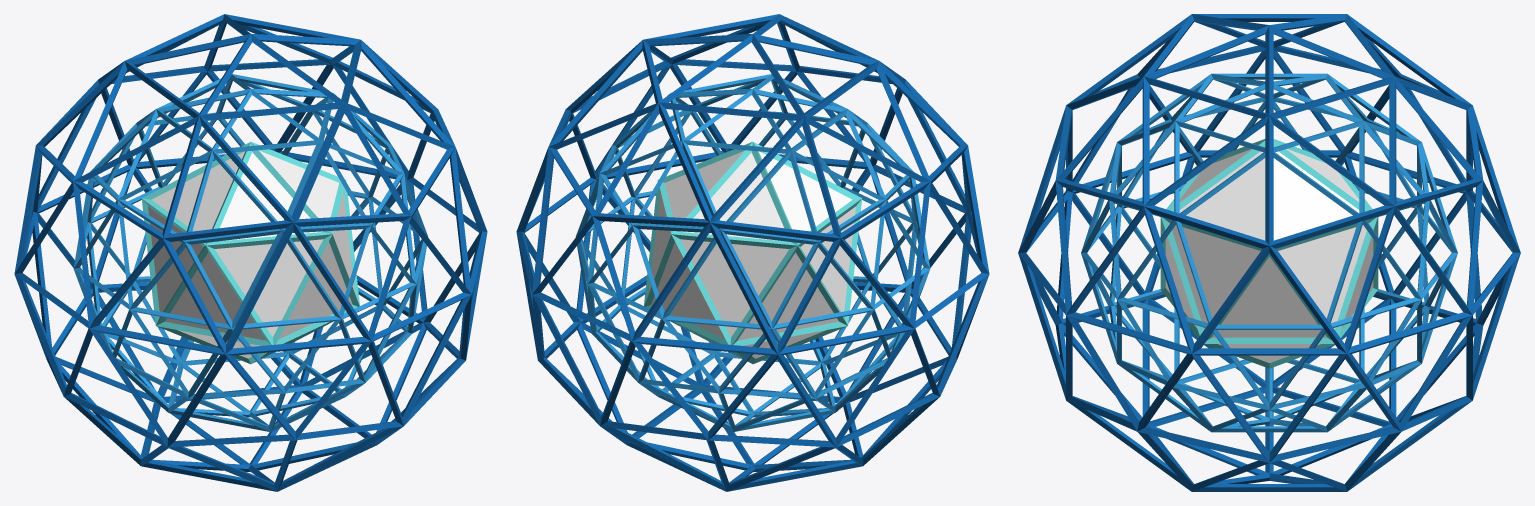
File: alientShip5.fbx
3 views of the same model, side by side, from view 1: azimuth 30°, elevation 25°; view 2: azimuth 150°, elevation 25°; view 3: azimuth 270°, elevation 25° (orthographic). The views are drawn at different scales.
Visible parts, largest first — view 1: AlienShip5Outer, AlienShip5Outer2, AlienShip5Inner; view 2: AlienShip5Outer, AlienShip5Outer2, AlienShip5Inner; view 3: AlienShip5Outer, AlienShip5Outer2, AlienShip5Inner.
Boxes of the visible parts, bbox=[...] form: AlienShip5Outer: bbox=[14, 14, 487, 491]; AlienShip5Outer2: bbox=[73, 74, 428, 432]; AlienShip5Inner: bbox=[141, 141, 359, 364]; AlienShip5Outer: bbox=[516, 14, 989, 491]; AlienShip5Outer2: bbox=[575, 74, 930, 432]; AlienShip5Inner: bbox=[644, 141, 862, 364]; AlienShip5Outer: bbox=[1018, 14, 1520, 491]; AlienShip5Outer2: bbox=[1081, 73, 1457, 432]; AlienShip5Inner: bbox=[1160, 139, 1378, 368].
Size of the model in its own units: 580 by 610 by 610.
1 material, 1 textured.
